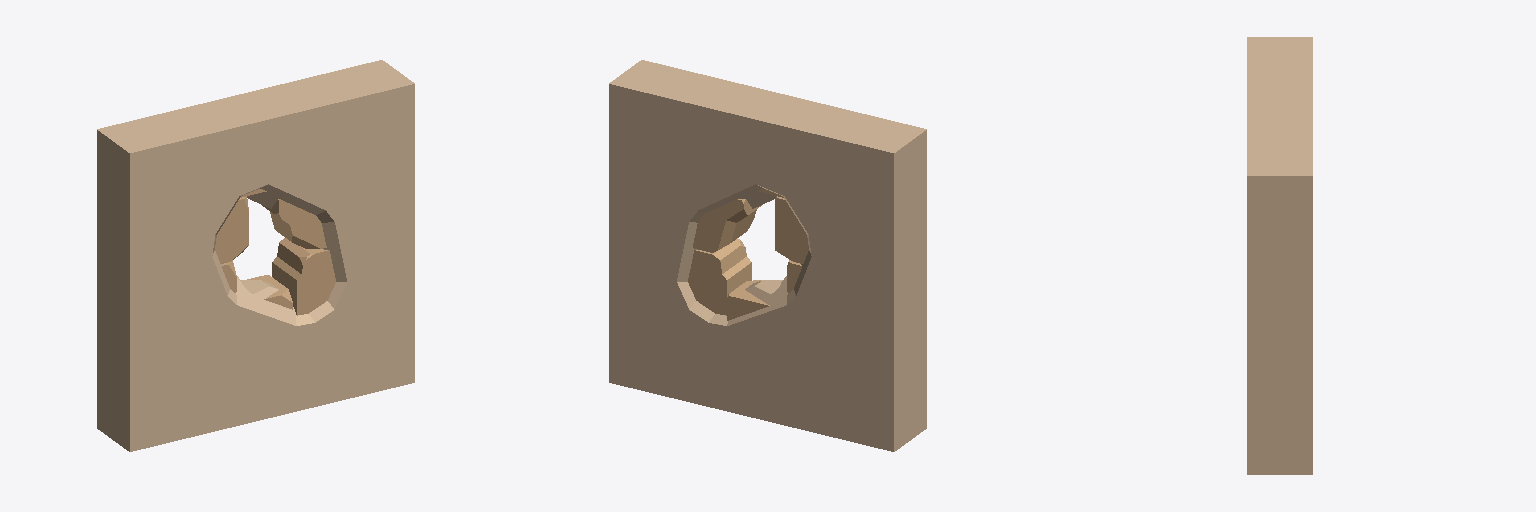
Rendered from Wall_Ruined_Full_2.obj.
The picture shows the model from 3 angles: view 1: azimuth 30°, elevation 25°; view 2: azimuth 150°, elevation 25°; view 3: azimuth 270°, elevation 25°; orthographic projection.
Parts seen in each view (by area): view 1: object7, object5, object8, object4, object6; view 2: object7, object5, object8, object4, object6; view 3: object7.
Boxes of the visible parts, <box> form: object7: <box>97,60,414,451</box>; object5: <box>272,238,335,315</box>; object8: <box>262,199,326,248</box>; object4: <box>215,196,248,263</box>; object6: <box>247,275,292,309</box>; object7: <box>609,60,926,451</box>; object5: <box>688,238,751,315</box>; object8: <box>693,199,761,252</box>; object4: <box>775,196,808,263</box>; object6: <box>727,280,769,320</box>; object7: <box>1247,37,1312,474</box>.
Size of the model in its own units: 1 by 1 by 0.2.